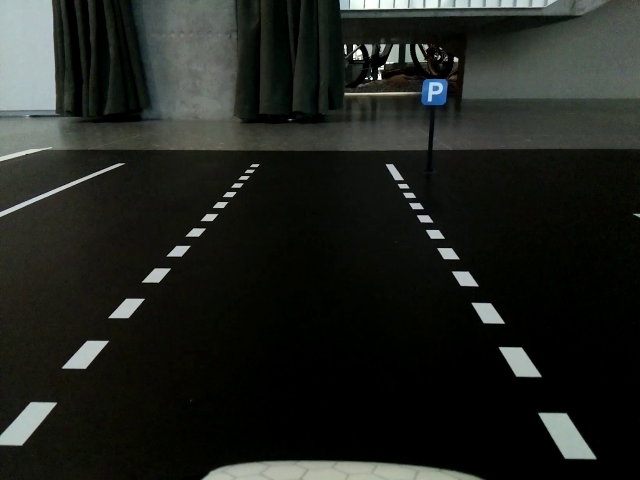park: (422, 79, 449, 105)
